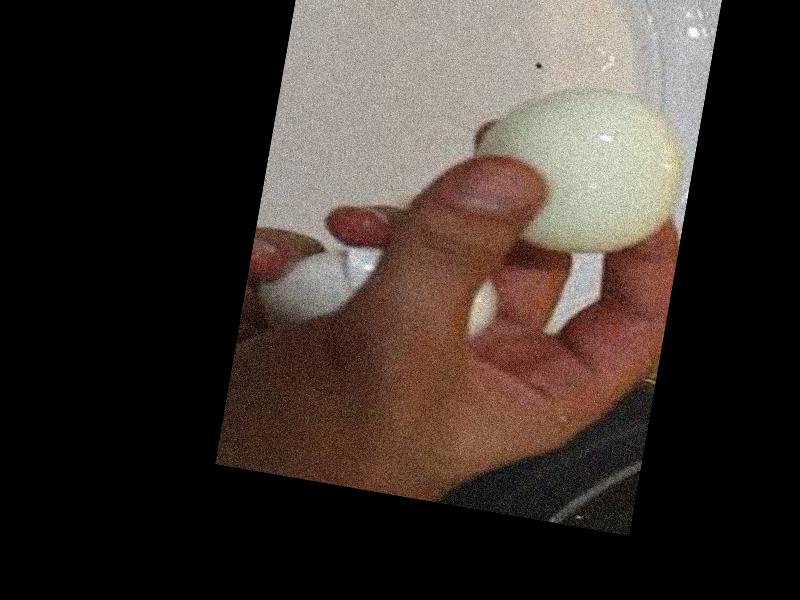Eggs: (459, 74, 699, 270)
